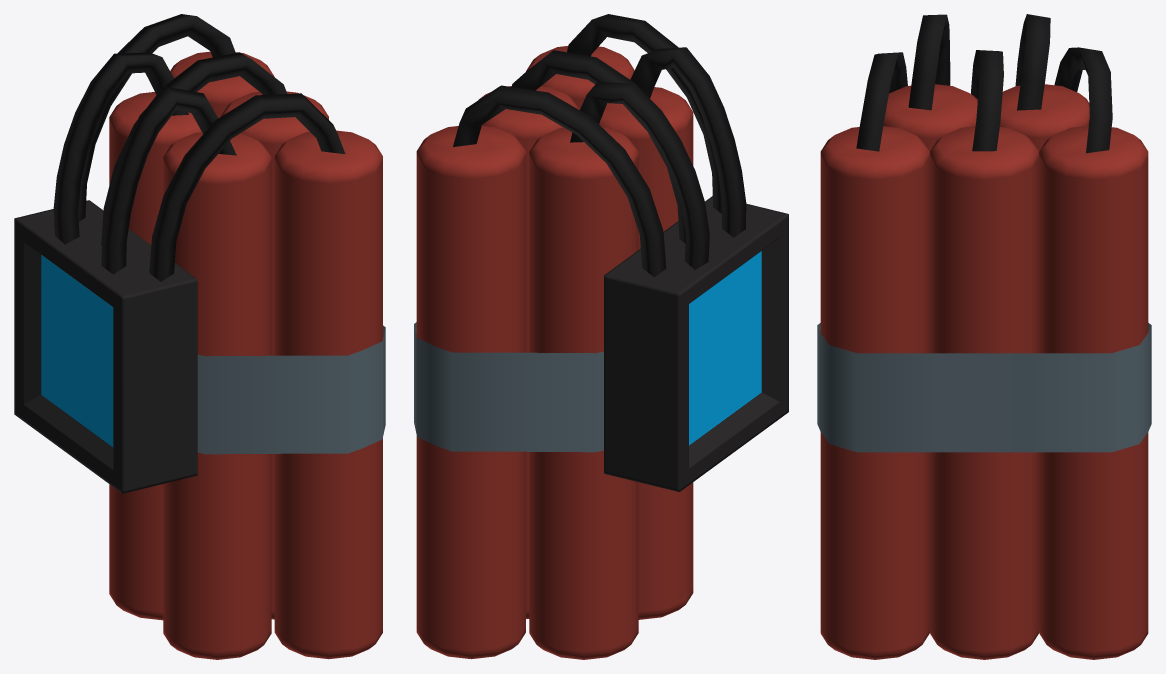
File: TNT.fbx
The picture shows the model from 3 angles, left to right: view 1: azimuth 30°, elevation 25°; view 2: azimuth 150°, elevation 25°; view 3: azimuth 270°, elevation 25°; orthographic projection.
Parts seen in each view (by area): view 1: tnt.003, Panel, tnt.004, Tape, tnt.002, Wire.002, Wire.003, Wire.004, Wire, tnt, Wire.001, tnt.001; view 2: tnt.001, Panel, tnt.002, Tape, tnt.004, Wire, Wire.004, Wire.003, Wire.002, tnt, Wire.001, tnt.003; view 3: tnt.003, tnt.001, tnt, Tape, tnt.004, tnt.002, Wire, Wire.004, Wire.001, Wire.002, Wire.003.
Part boxes in pixels (<box>): tnt.003: <box>274,130,382,659</box>; Panel: <box>14,200,197,493</box>; tnt.004: <box>163,132,271,659</box>; Tape: <box>197,325,385,454</box>; tnt.002: <box>109,92,201,620</box>; Wire.002: <box>149,93,345,281</box>; Wire.003: <box>53,52,188,244</box>; Wire.004: <box>101,87,236,274</box>; Wire: <box>78,14,235,221</box>; tnt: <box>220,91,328,619</box>; Wire.001: <box>101,52,287,245</box>; tnt.001: <box>170,51,274,118</box>; tnt.001: <box>416,125,525,659</box>; Panel: <box>604,196,788,491</box>; tnt.002: <box>529,127,638,659</box>; Tape: <box>414,322,603,452</box>; tnt.004: <box>599,87,693,619</box>; Wire: <box>453,85,666,277</box>; Wire.004: <box>630,47,746,237</box>; Wire.003: <box>570,81,709,269</box>; Wire.002: <box>567,14,722,213</box>; tnt: <box>478,86,579,618</box>; Wire.001: <box>511,50,685,243</box>; tnt.003: <box>526,46,634,109</box>; tnt.003: <box>820,126,929,659</box>; tnt.001: <box>1039,125,1148,659</box>; tnt: <box>930,126,1038,659</box>; Tape: <box>817,323,1151,452</box>; tnt.004: <box>883,84,977,151</box>; tnt.002: <box>1000,84,1089,151</box>; Wire: <box>1054,47,1112,153</box>; Wire.004: <box>908,14,950,110</box>; Wire.001: <box>971,50,1003,151</box>; Wire.002: <box>856,52,907,151</box>; Wire.003: <box>1015,14,1050,110</box>.
Bounding box in the file's own units: 13.55 × 28.42 × 15.28.
Materials: 5 (1 with a texture image).
